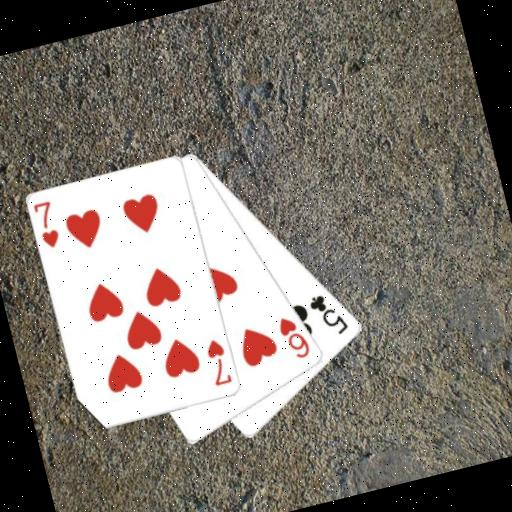5C: (304, 287, 352, 343)
6H: (274, 310, 314, 365)
7H: (202, 334, 235, 389), (30, 197, 63, 251)
